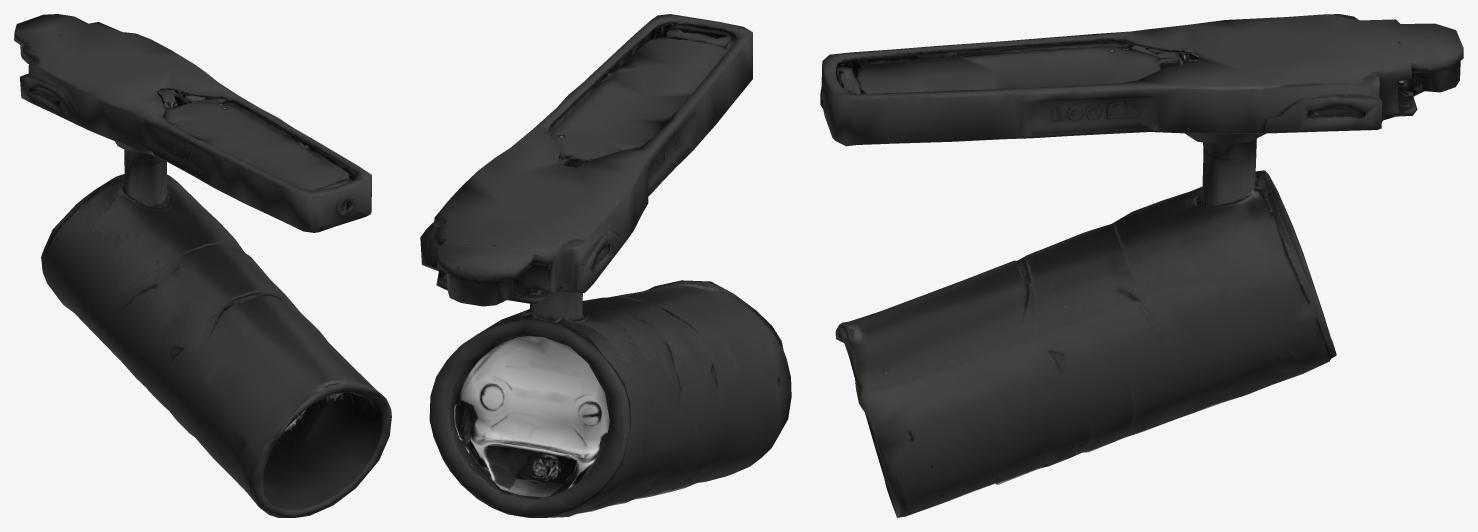
Rendered from luminaria17.obj.
The picture shows the model from 3 angles, left to right: view 1: azimuth 30°, elevation 25°; view 2: azimuth 150°, elevation 25°; view 3: azimuth 270°, elevation 25°; orthographic projection. The views are drawn at different scales.
Parts seen in each view (by area): view 1: luminaria17; view 2: luminaria17; view 3: luminaria17.
Part boxes in pixels (<box>): luminaria17: <box>14,14,391,517</box>; luminaria17: <box>420,14,791,517</box>; luminaria17: <box>820,14,1463,517</box>.
Size of the model in its own units: 0.9148 by 1.61 by 2.16.
1 material, 1 textured.
